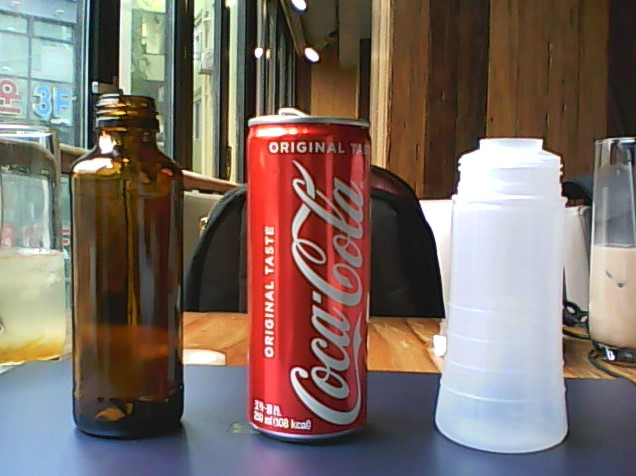Can: (239, 101, 374, 448)
Glass: (59, 90, 194, 443)
Plastic: (432, 129, 575, 457)
